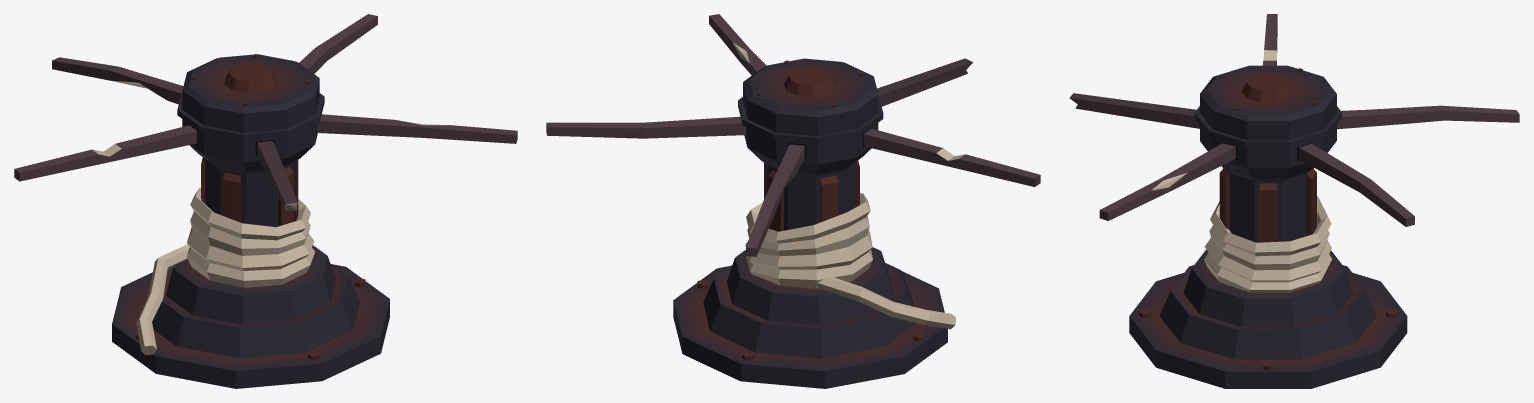
The model's file is Capstan_01.fbx.
3 renders of one model, left to right at view 1: azimuth 30°, elevation 25°; view 2: azimuth 150°, elevation 25°; view 3: azimuth 270°, elevation 25°, orthographic. The views are drawn at different scales.
Visible parts, largest first — view 1: Captstan_01; view 2: Captstan_01; view 3: Captstan_01.
Boxes of the visible parts, x1,y1,x2,y2 form: Captstan_01: (14, 14, 517, 388); Captstan_01: (546, 14, 1040, 388); Captstan_01: (1069, 14, 1519, 388).
Bounding box in the file's own units: 188 × 107 × 175.
